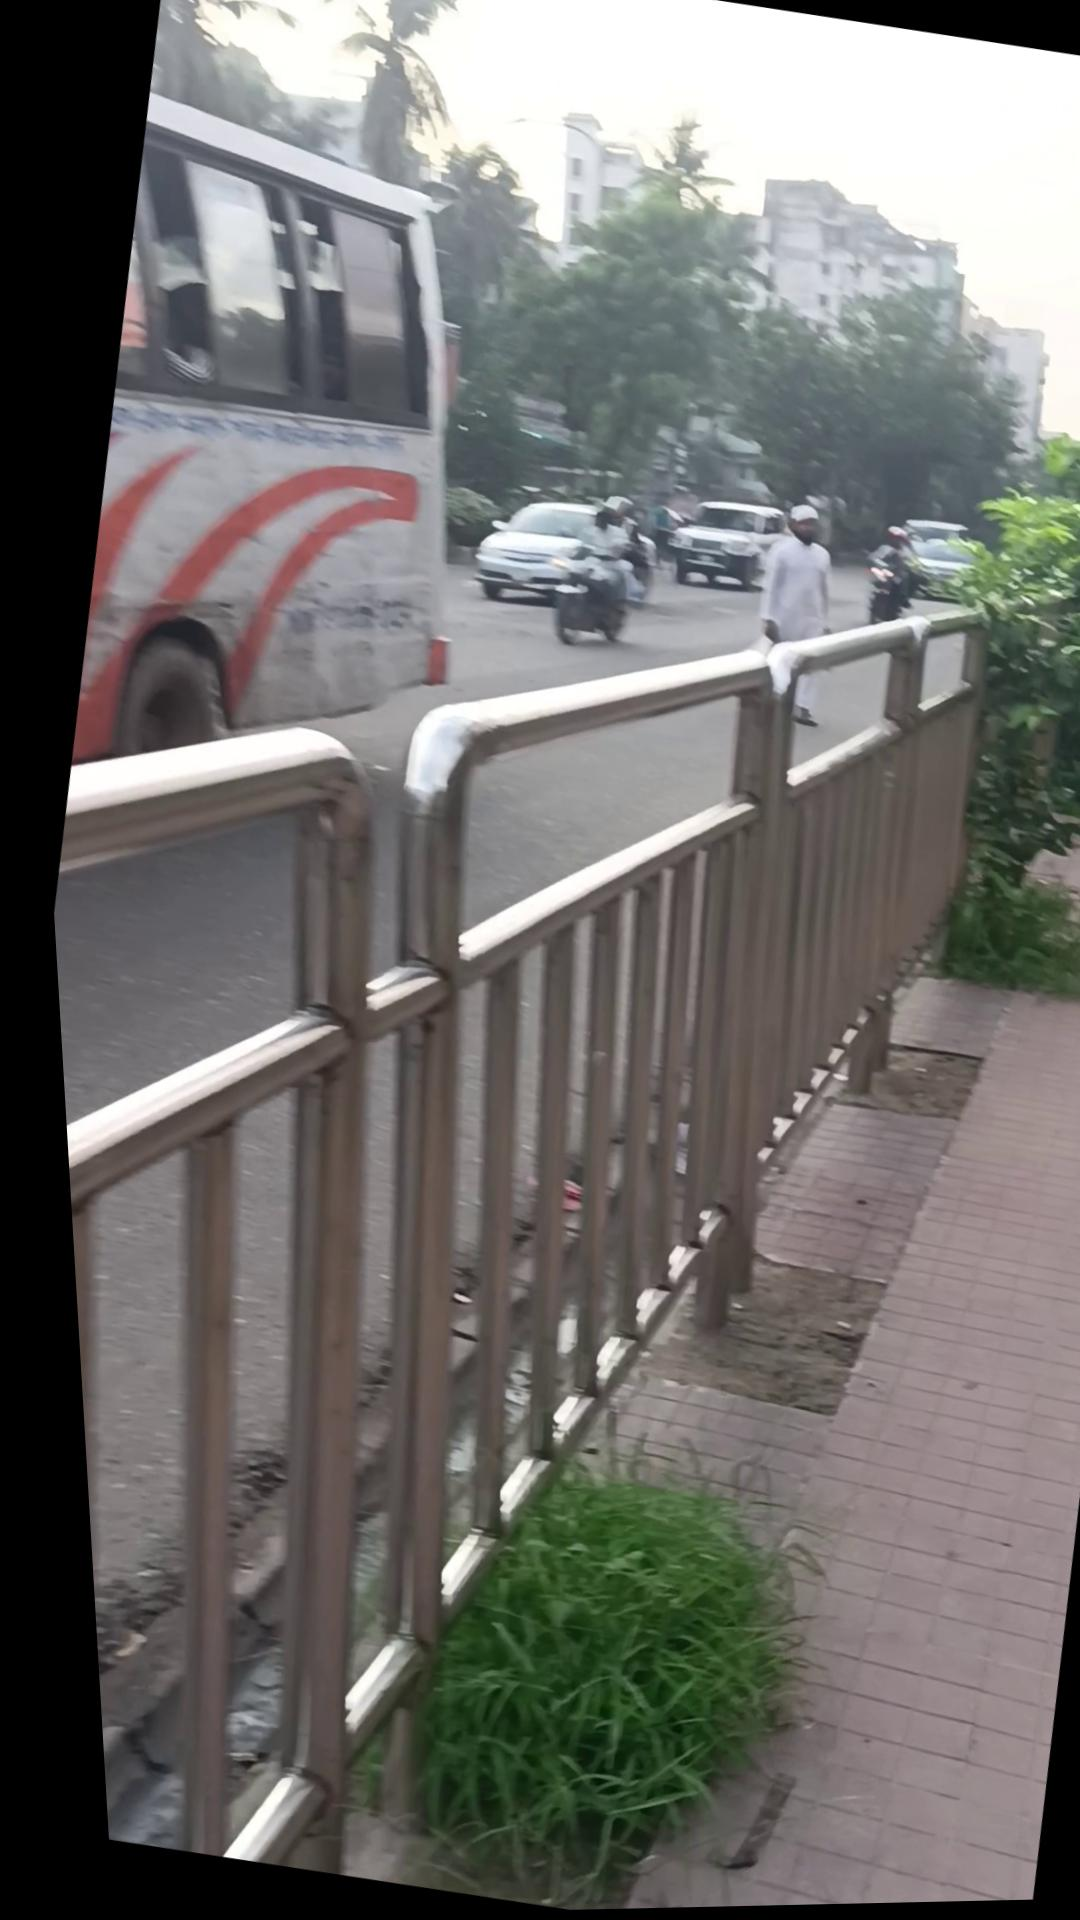Car: (849, 512, 986, 615)
Light-pole: (527, 534, 638, 658), (843, 547, 915, 636)
Muddy road: (727, 501, 849, 733)
Traffic-sign: (32, 82, 542, 828)
